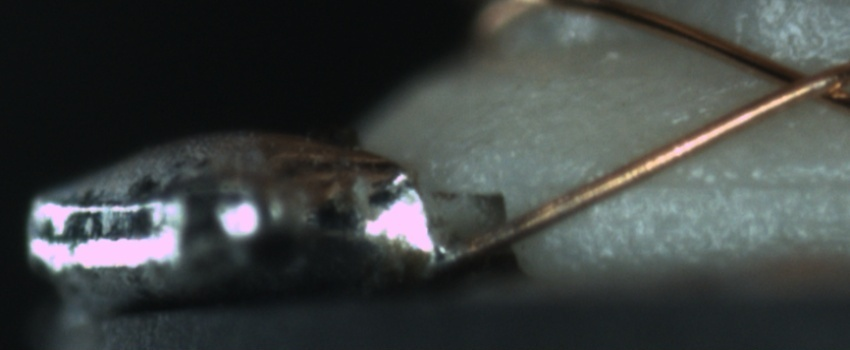CL: (748, 51, 845, 114)
DL: (570, 150, 848, 214)
